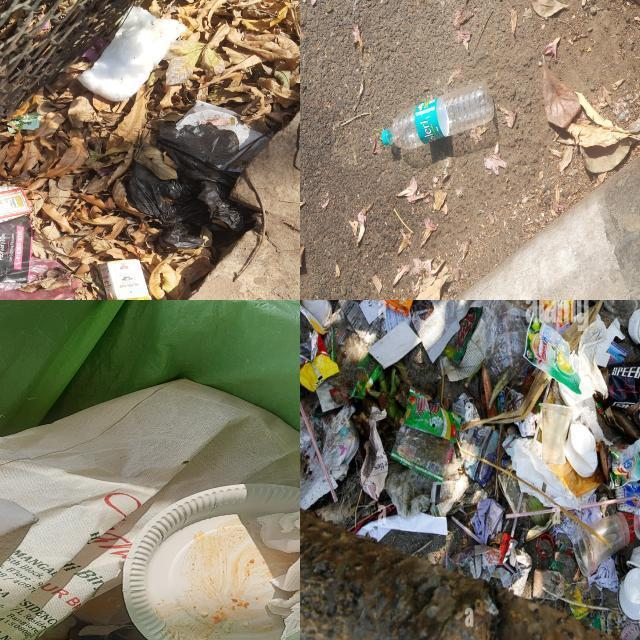Background: (300, 0, 640, 300)
Disposable: (573, 513, 629, 577), (541, 403, 572, 465), (618, 567, 640, 621), (302, 300, 331, 326), (604, 300, 638, 322), (628, 309, 640, 346)
Garbage: (300, 300, 640, 619), (0, 0, 300, 300), (0, 380, 300, 640)
Plastic: (124, 483, 300, 640)
Plastic_Bag: (127, 101, 270, 250), (482, 300, 534, 384), (73, 585, 130, 626), (29, 259, 60, 279)
Plastic_bottle: (381, 82, 495, 150)
Plastic_wraper: (390, 389, 461, 482), (525, 318, 581, 395), (300, 304, 339, 391), (444, 308, 482, 363), (612, 436, 640, 488), (351, 352, 382, 398), (607, 342, 628, 364), (498, 533, 511, 564)
Tetrapack: (98, 259, 151, 300), (0, 186, 31, 223)
